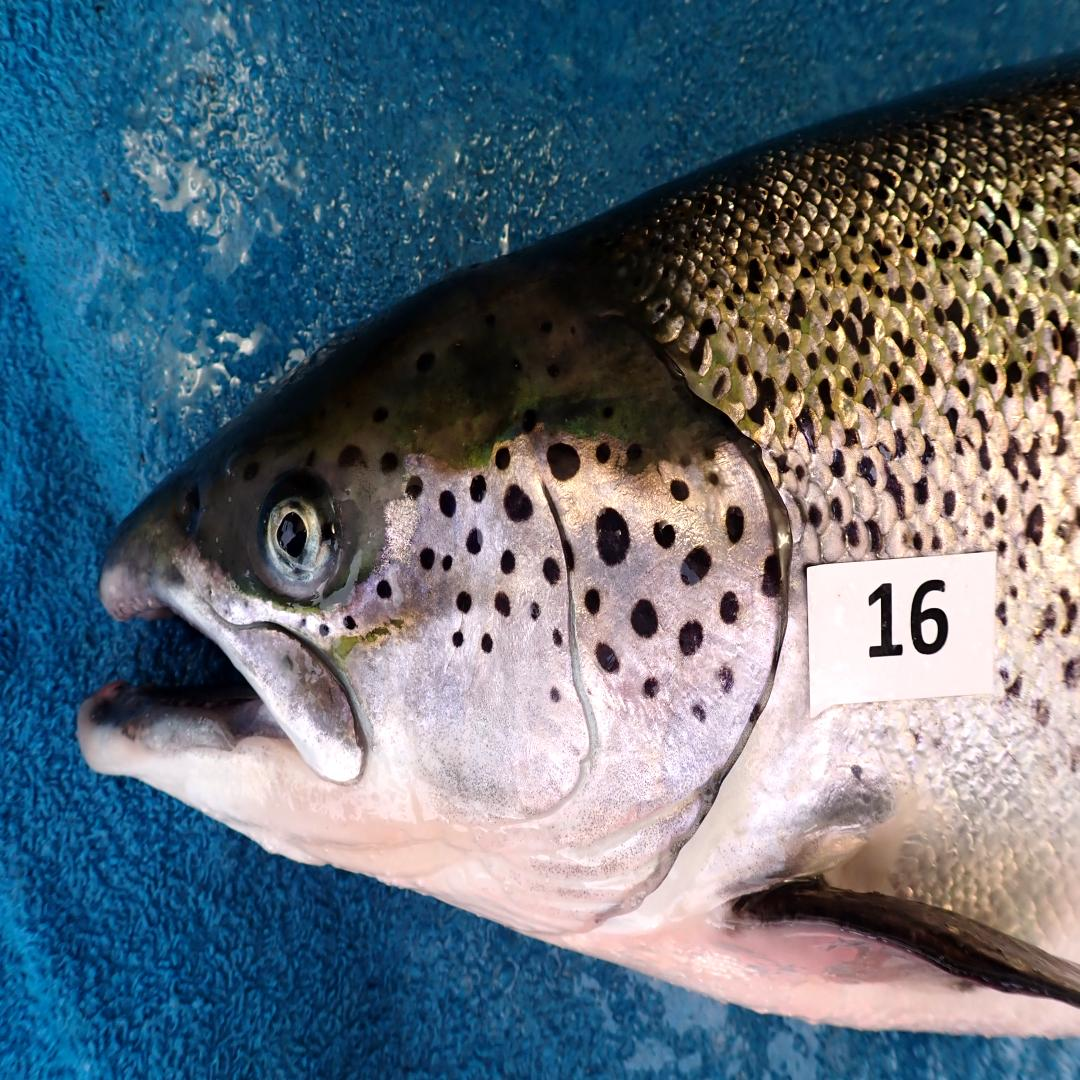roi: (363, 421, 795, 944)
